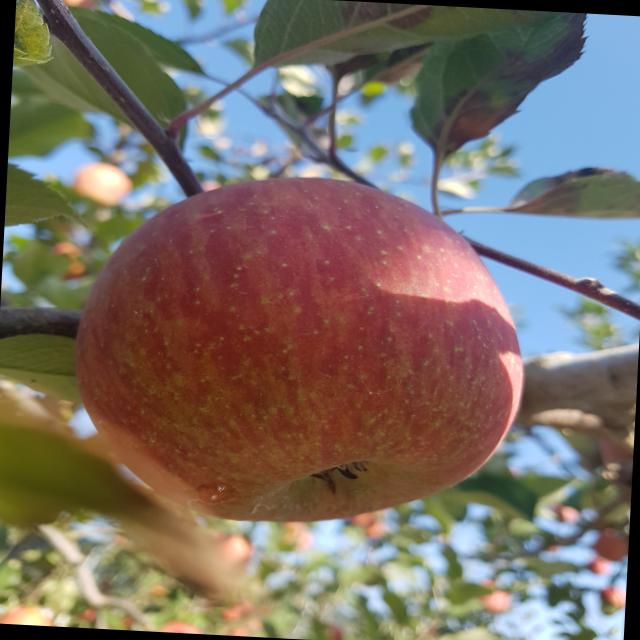fresh: (63, 162, 551, 542)
